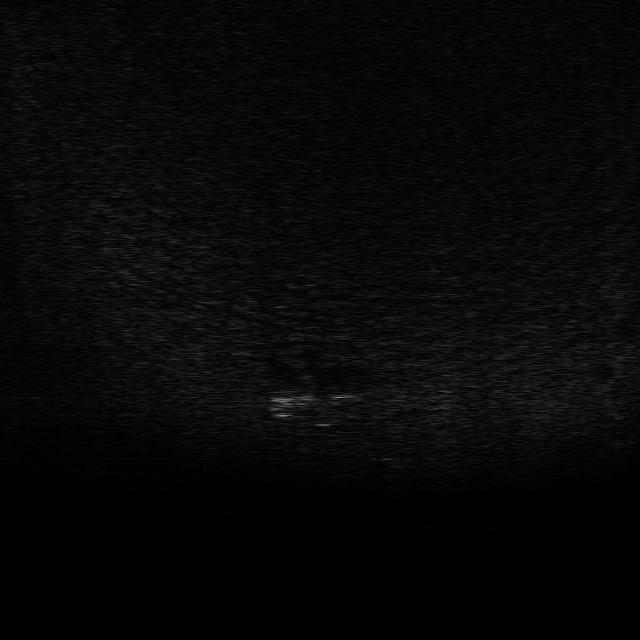plane: (258, 376, 364, 430)
